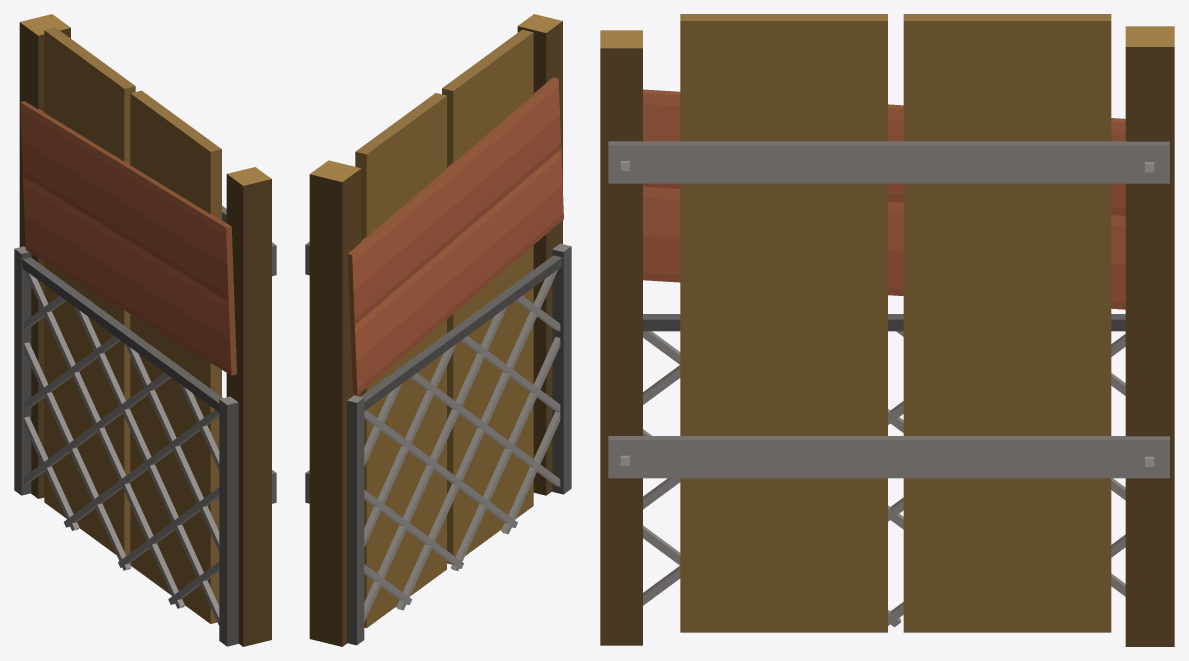
Rendered from FenceWoodL_Patched_01.fbx.
The picture shows the model from 3 angles, left to right: view 1: azimuth 30°, elevation 25°; view 2: azimuth 150°, elevation 25°; view 3: azimuth 270°, elevation 25°; orthographic projection. The views are drawn at different scales.
Parts seen in each view (by area): view 1: FenceWoodL_Patched_01; view 2: FenceWoodL_Patched_01; view 3: FenceWoodL_Patched_01.
Part boxes in pixels (x1,y1,x2,y2): FenceWoodL_Patched_01: [14, 14, 276, 646]; FenceWoodL_Patched_01: [305, 14, 571, 646]; FenceWoodL_Patched_01: [600, 14, 1174, 646].
Size of the model in its own units: 0.6929 by 5.12 by 6.06.
